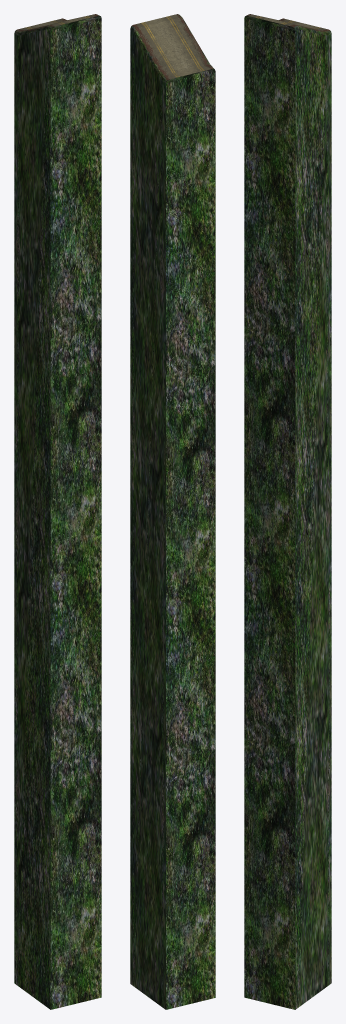
File: Slope.fbx
3 renders of one model, left to right at view 1: azimuth 30°, elevation 25°; view 2: azimuth 210°, elevation 25°; view 3: azimuth 330°, elevation 25°, orthographic. The views are drawn at different scales.
Visible parts, largest first — view 1: Slope; view 2: Slope; view 3: Slope.
Part boxes in pixels (left/top/right/bottom): Slope: left=14, top=14, right=101, bottom=1009; Slope: left=130, top=14, right=215, bottom=1009; Slope: left=244, top=14, right=331, bottom=1009.
Size of the model in its own units: 410 by 7538 by 507.
